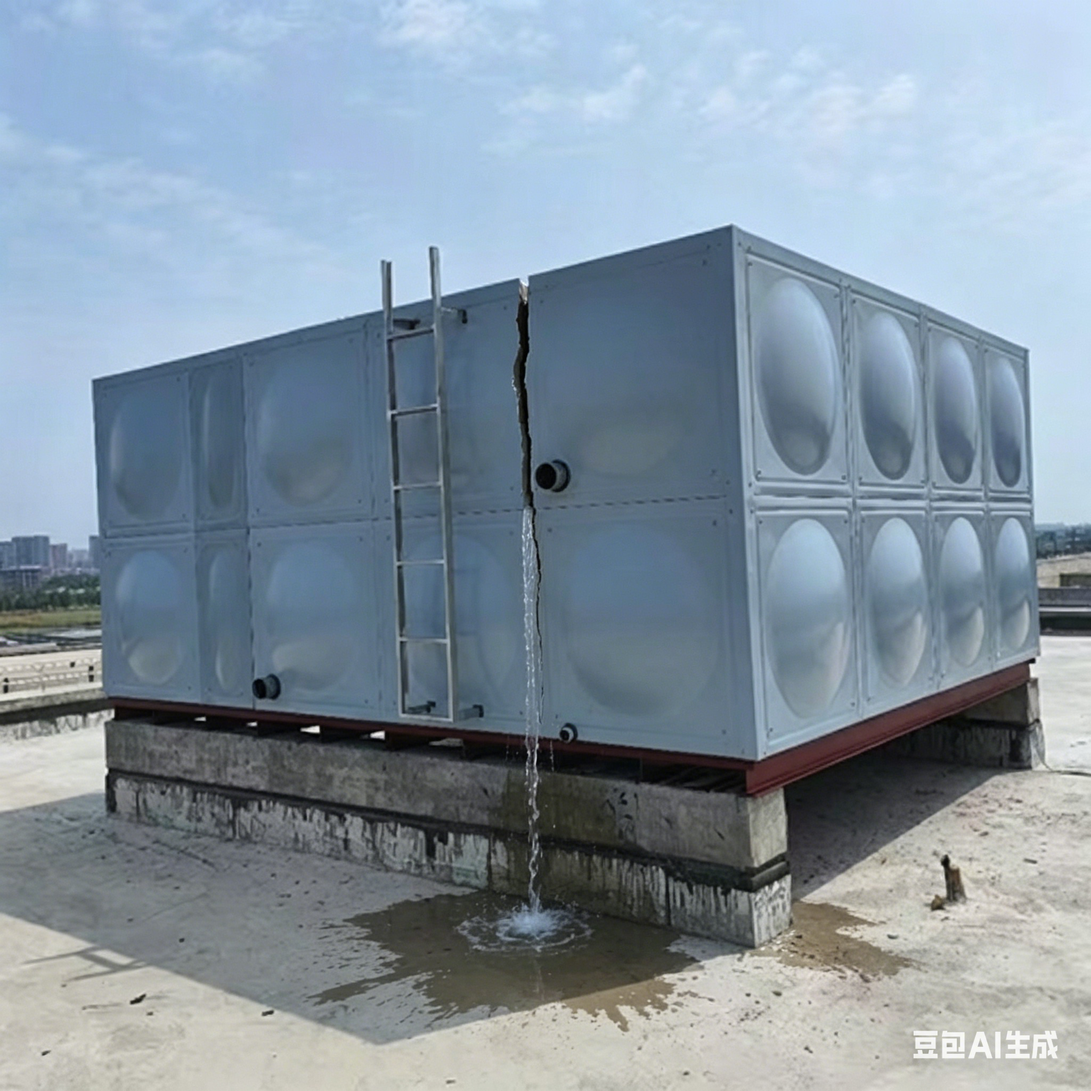Leakage: (473, 501, 596, 943), (788, 908, 923, 999), (477, 957, 696, 1009), (375, 908, 457, 977)
